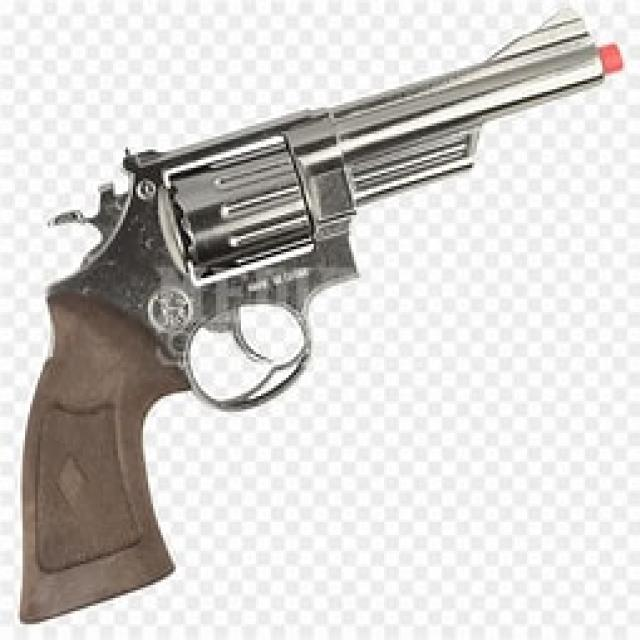Pistol: (14, 7, 632, 632)
